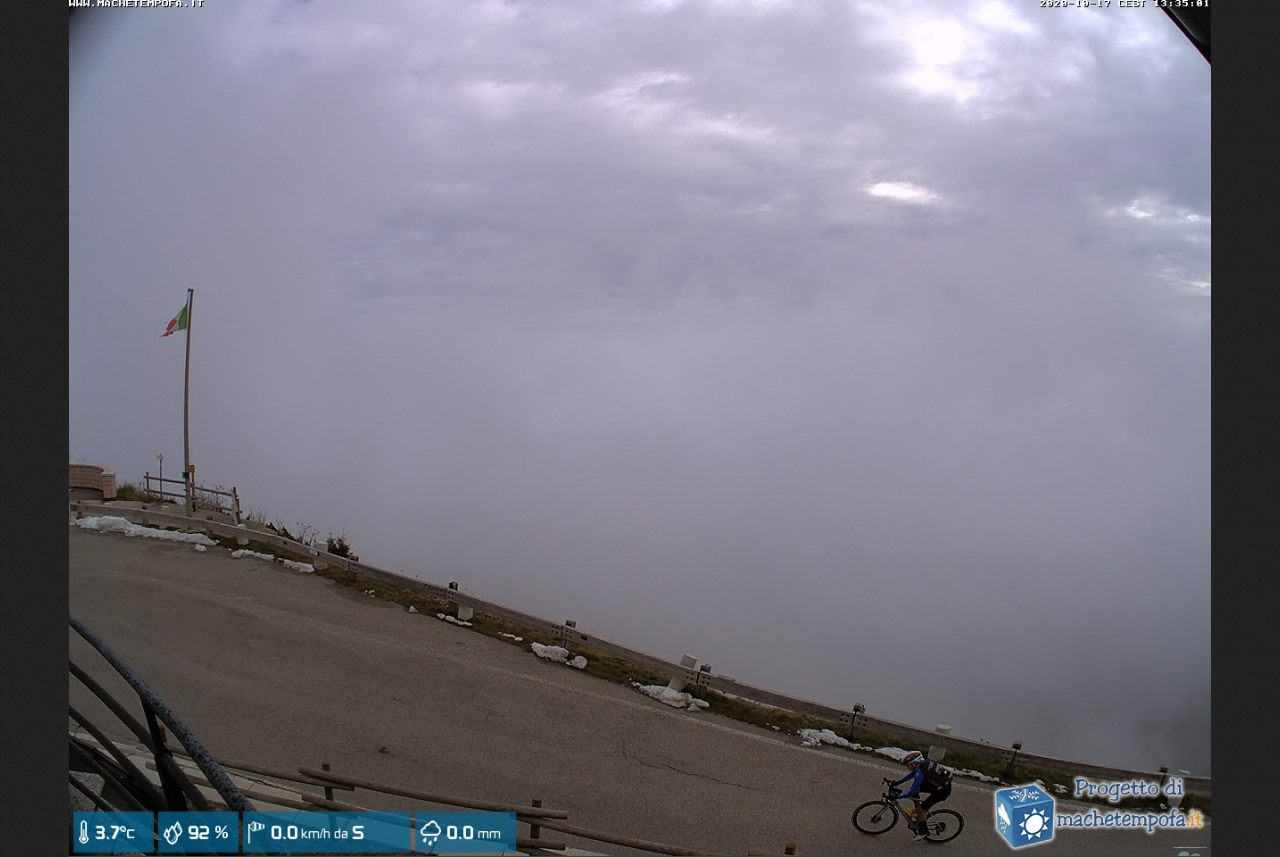maybe: (159, 298, 195, 341)
